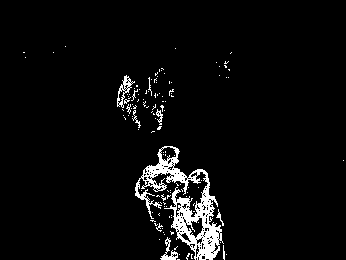person: (135, 145, 188, 260), (172, 167, 226, 260), (142, 65, 175, 133), (117, 71, 142, 130)
